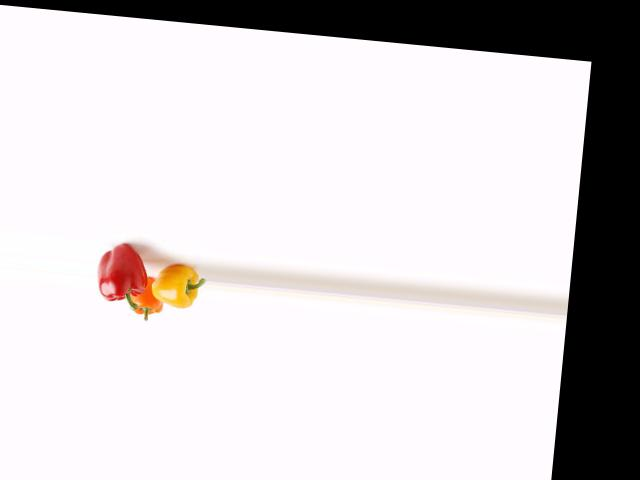bell_pepper: (92, 235, 153, 317)
